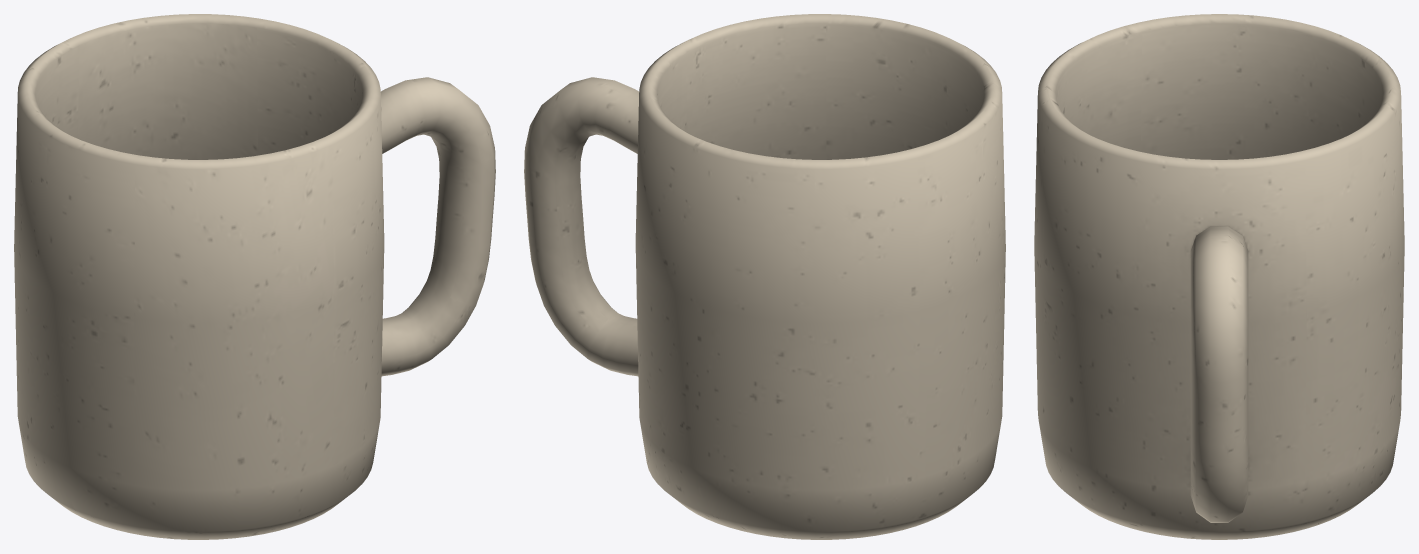
Rendered from speckled-stoneware.glb.
3 renders of one model, left to right at view 1: azimuth 30°, elevation 25°; view 2: azimuth 150°, elevation 25°; view 3: azimuth 270°, elevation 25°, orthographic.
Parts seen in each view (by area): view 1: ceramic_primary; view 2: ceramic_primary; view 3: ceramic_primary.
Boxes of the visible parts, x1,y1,x2,y2 form: ceramic_primary: [14, 14, 495, 539]; ceramic_primary: [524, 14, 1005, 539]; ceramic_primary: [1034, 14, 1404, 539].
Size of the model in its own units: 0.118 by 0.0964 by 0.0836.
1 material, 1 textured.
